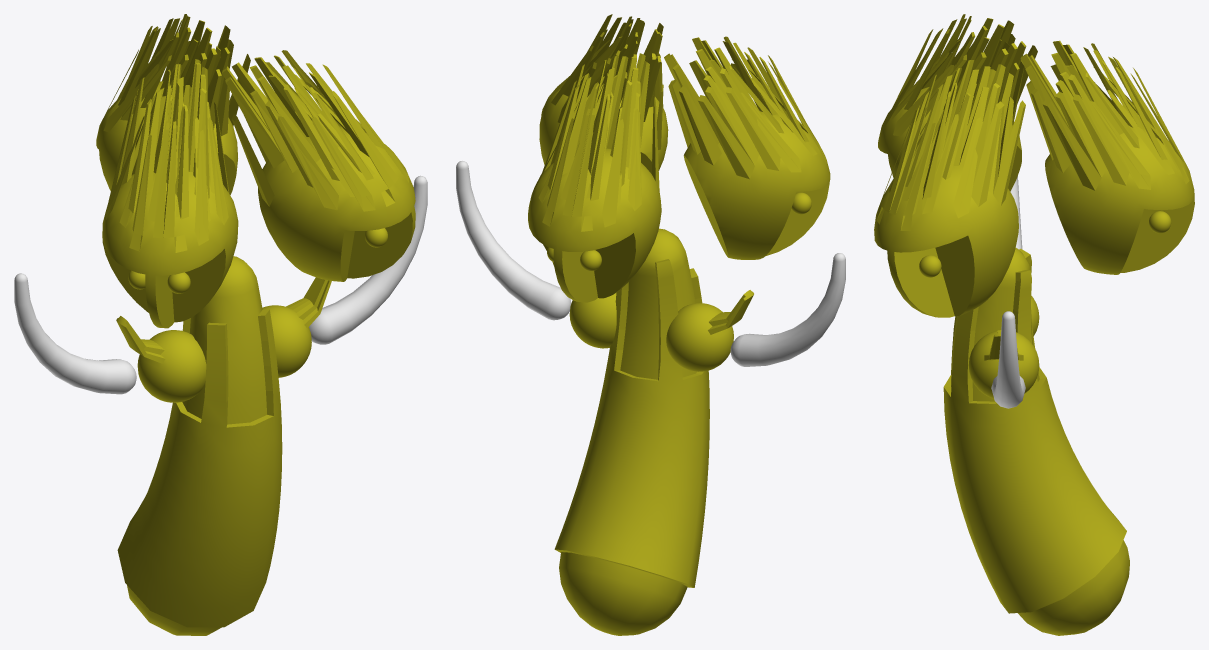
File: Mage.FBX
3 renders of one model, left to right at view 1: azimuth 30°, elevation 25°; view 2: azimuth 150°, elevation 25°; view 3: azimuth 270°, elevation 25°, orthographic. The views are drawn at different scales.
Parts seen in each view (by area): view 1: Capsule002, Sphere050, Sphere039, Sphere047, Sphere043, Capsule004, Capsule003, Sphere042; view 2: Capsule002, Sphere039, Sphere047, Sphere050, Capsule003, Sphere043, Capsule004, Sphere042; view 3: Capsule002, Sphere050, Sphere047, Sphere039, Sphere042, Capsule003.
Part boxes in pixels (<box>): Capsule002: <box>117,256,282,635</box>; Sphere050: <box>222,50,415,281</box>; Sphere039: <box>102,59,238,328</box>; Sphere047: <box>96,14,250,195</box>; Sphere043: <box>116,316,206,402</box>; Capsule004: <box>14,273,136,394</box>; Capsule003: <box>309,175,427,344</box>; Sphere042: <box>262,277,331,377</box>; Capsule002: <box>554,228,709,635</box>; Sphere039: <box>664,36,830,259</box>; Sphere047: <box>528,53,661,302</box>; Sphere050: <box>539,14,668,173</box>; Capsule003: <box>456,161,571,320</box>; Sphere043: <box>666,290,753,371</box>; Capsule004: <box>730,253,845,366</box>; Sphere042: <box>552,262,616,348</box>; Capsule002: <box>943,248,1129,635</box>; Sphere050: <box>874,60,1025,317</box>; Sphere047: <box>1020,40,1194,274</box>; Sphere039: <box>878,14,1037,191</box>; Sphere042: <box>968,330,1039,398</box>; Capsule003: <box>991,311,1025,408</box>.
Bounding box in the file's own units: 113 × 160 × 79.23.
